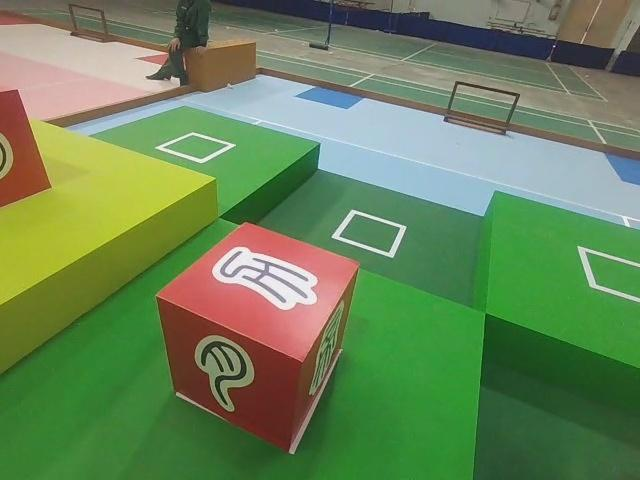R2 Fake: (153, 219, 359, 456)
